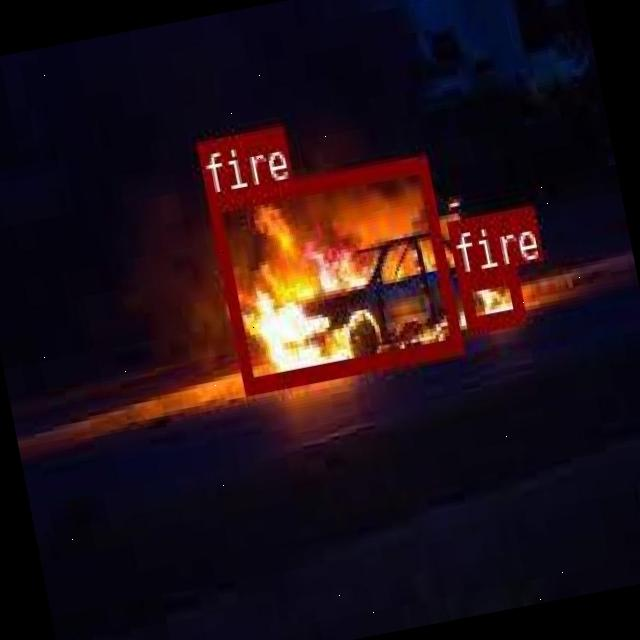fire: (205, 153, 461, 391), (456, 264, 524, 331)
